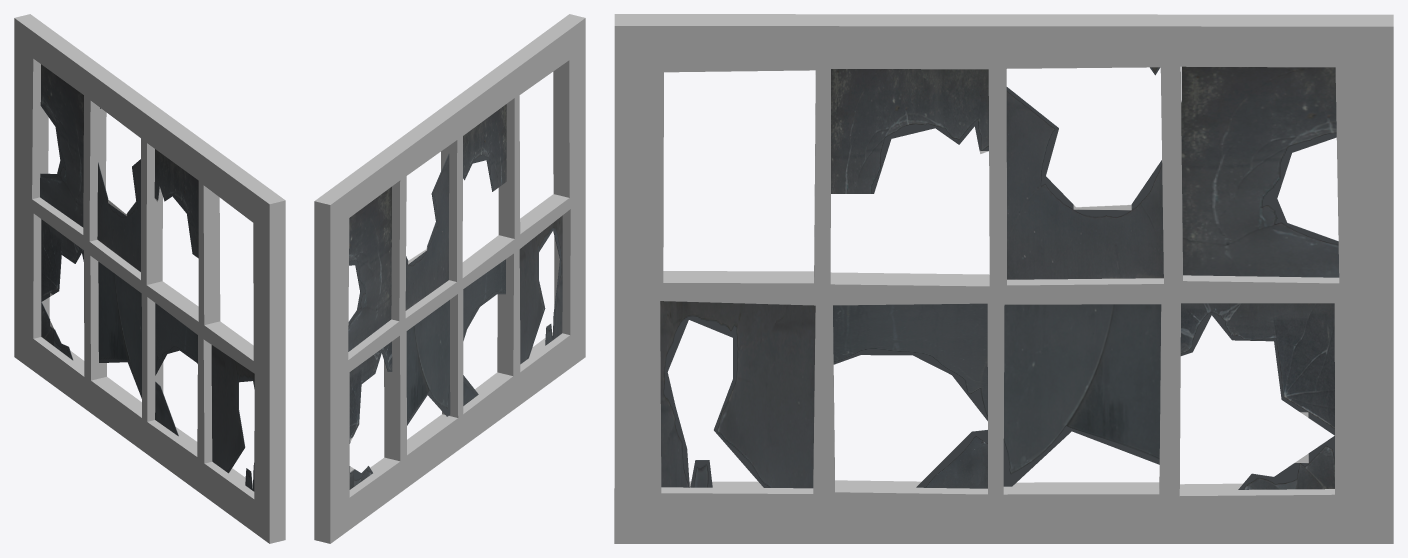
The model's file is Windows_Big_04.fbx.
The picture shows the model from 3 angles, left to right: view 1: azimuth 30°, elevation 25°; view 2: azimuth 150°, elevation 25°; view 3: azimuth 270°, elevation 25°; orthographic projection. The views are drawn at different scales.
Visible parts, largest first — view 1: Windows_Big_04, Windows_Big_04glass (×8); view 2: Windows_Big_04, Windows_Big_04glass (×7); view 3: Windows_Big_04, Windows_Big_04glass (×8).
Boxes of the visible parts, x1,y1,x2,y2 form: Windows_Big_04: [14, 14, 285, 543]; Windows_Big_04glass (×8): [40, 64, 254, 491]; Windows_Big_04: [314, 14, 585, 543]; Windows_Big_04glass (×7): [348, 104, 562, 489]; Windows_Big_04: [614, 14, 1393, 543]; Windows_Big_04glass (×8): [660, 66, 1339, 489].
Size of the model in its own units: 7.62 by 210 by 154.
